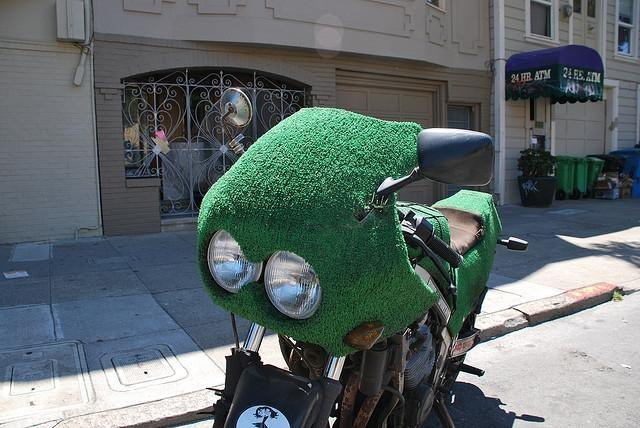motorcycle: (196, 88, 528, 428)
